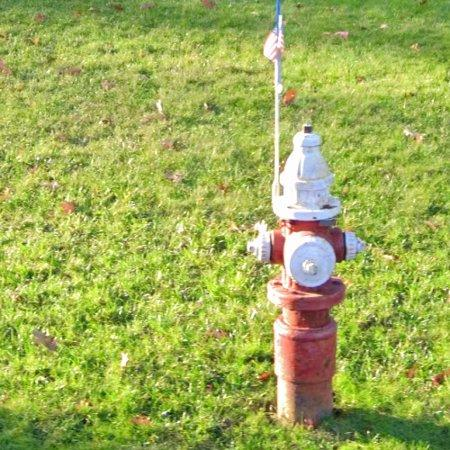a fire hydrant: (248, 126, 366, 426)
